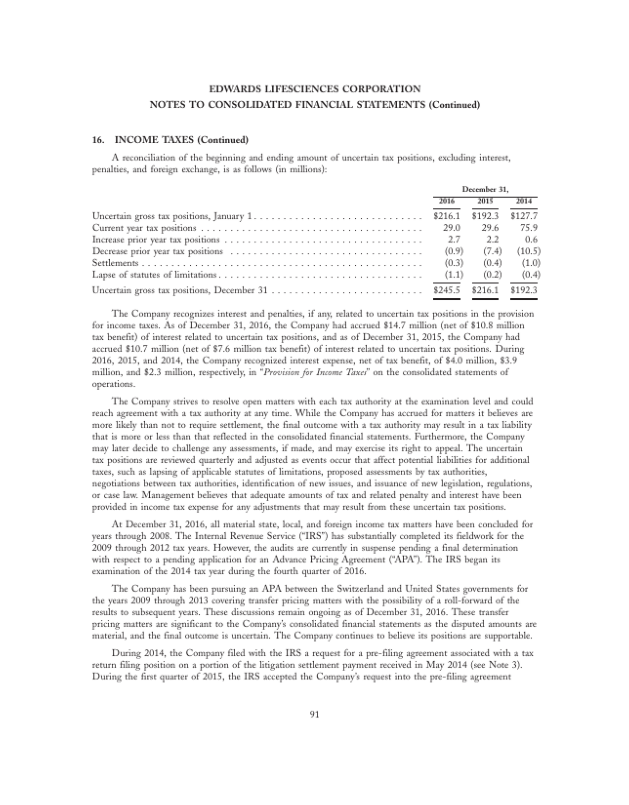table: (430, 184, 541, 300)
